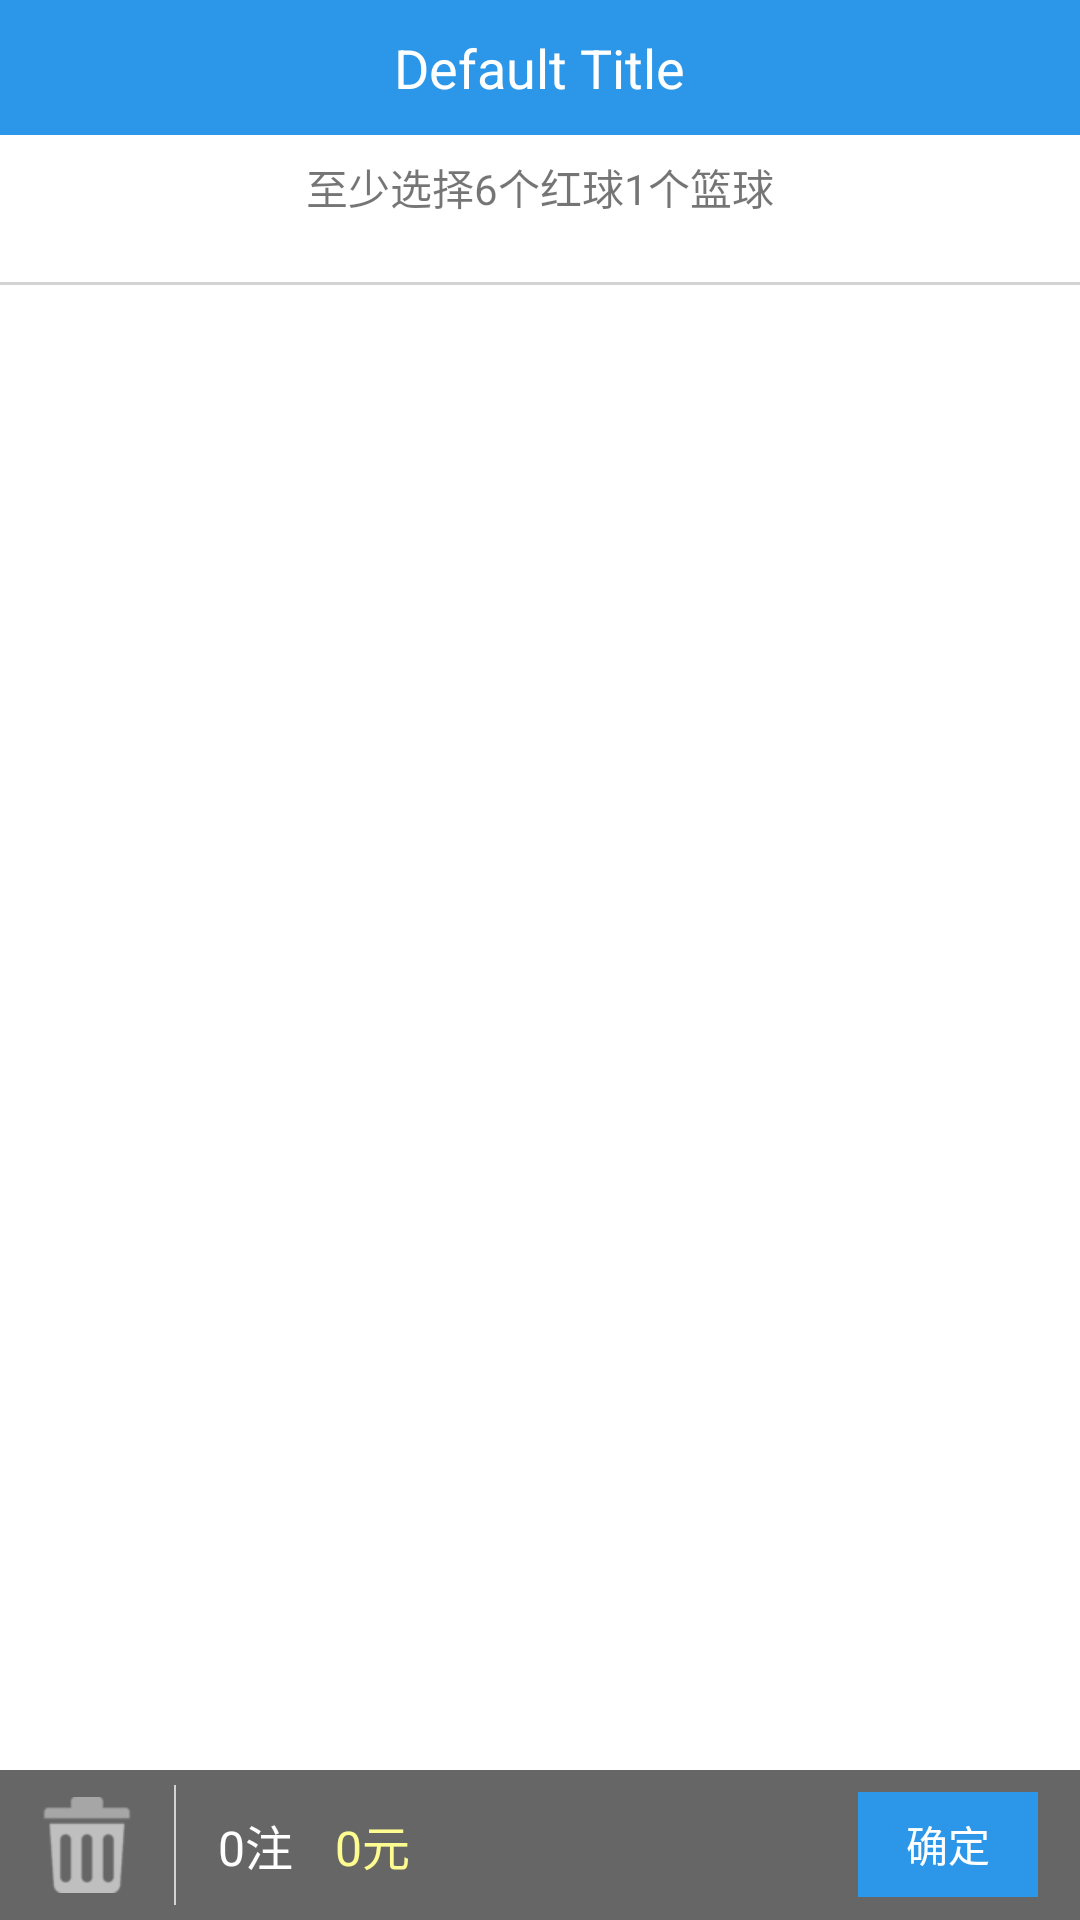

Where to tap for icons on this 1080w x 1920h app screen, as (x=x, y=y):
delete: (x=87, y=1845)
